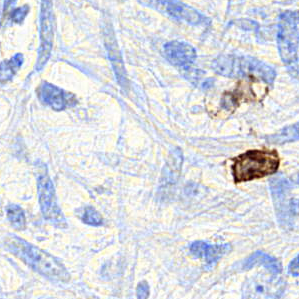Lymphocyte: (229, 147, 281, 182)
